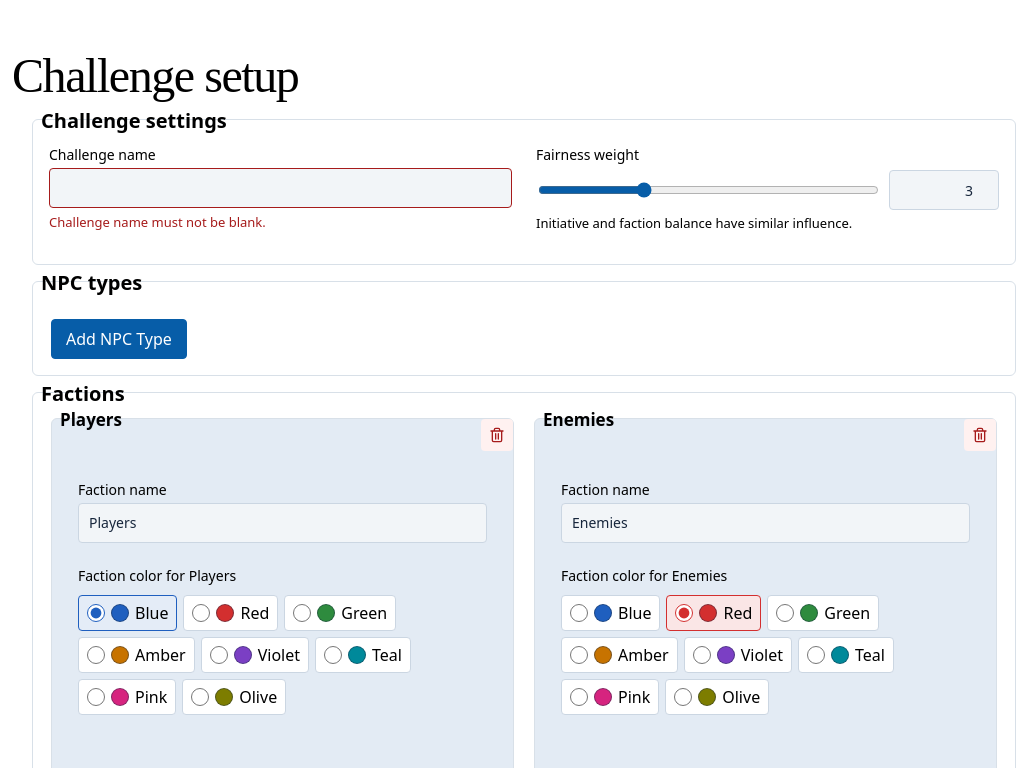
Test case: new challenge setup › accepts a fairness weight above the slider range and keeps the slider at its maximum
The width and height of the screenshot is (1036, 768).
Expected: the heading "Challenge setup" is shown, [12,49,298,102]
Replace the text in the number field named "Fairness weight value" with "12.75" at point(944, 190), box [889,170,999,210]
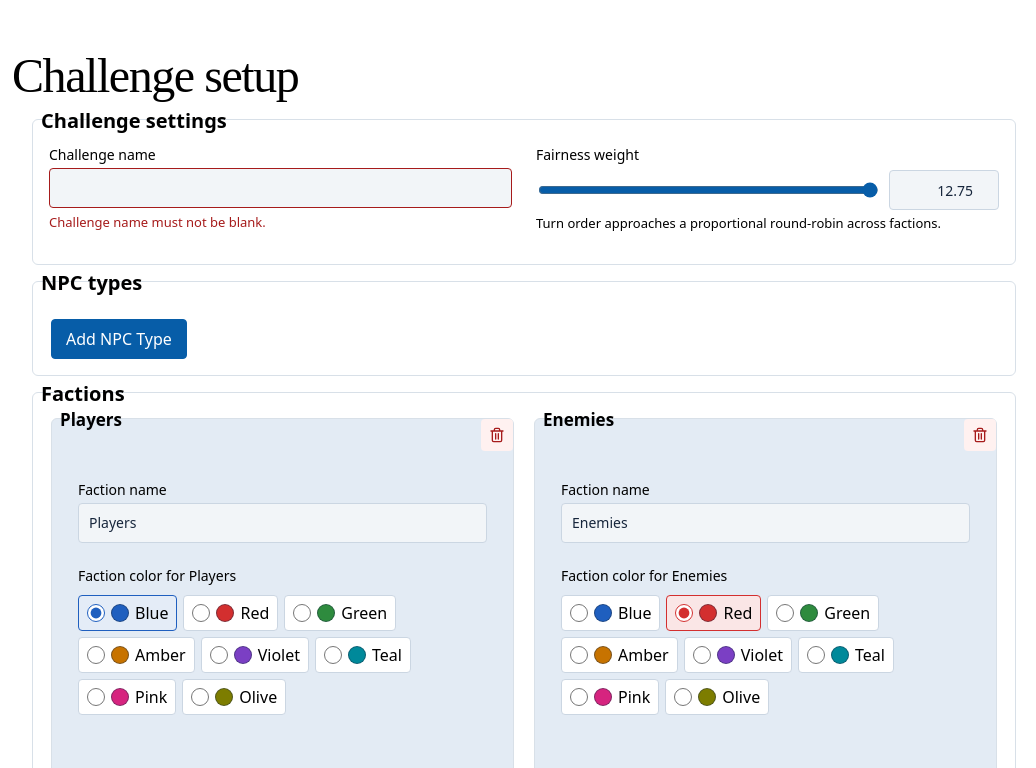
Now the slider named "Fairness weight slider" holds "10"
Set the slider named "Fairness weight slider" to "8.5" at point(822, 190), box [538,170,879,210]
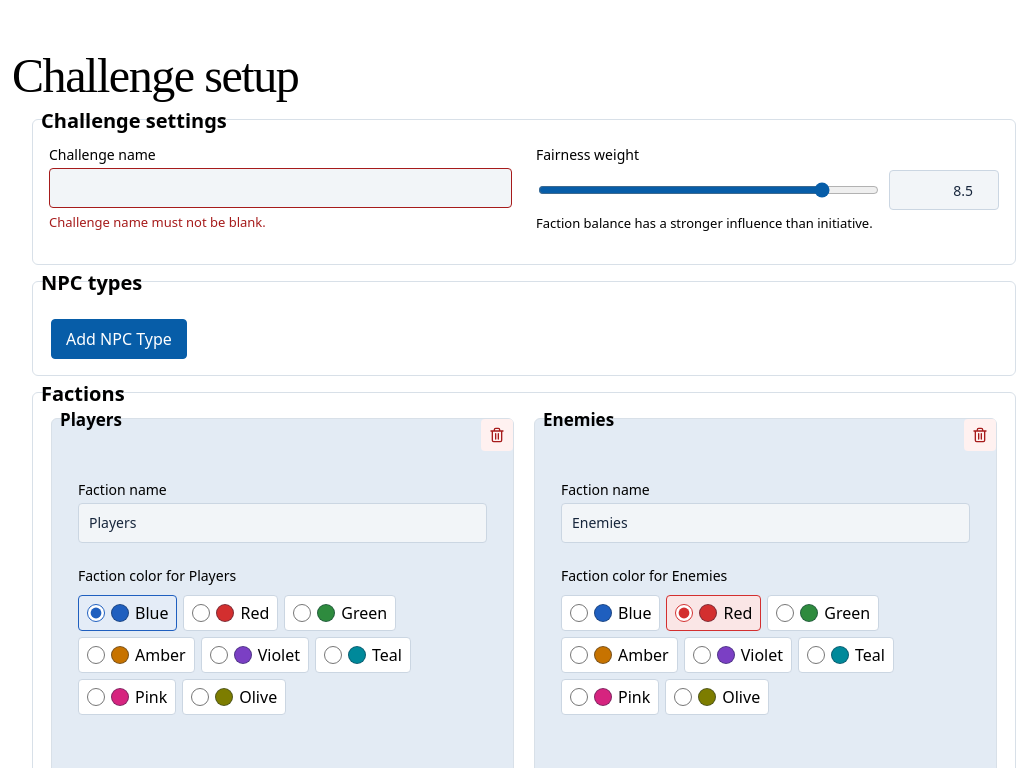
Now the number field named "Fairness weight value" holds "8.5", box [889,170,999,210]
